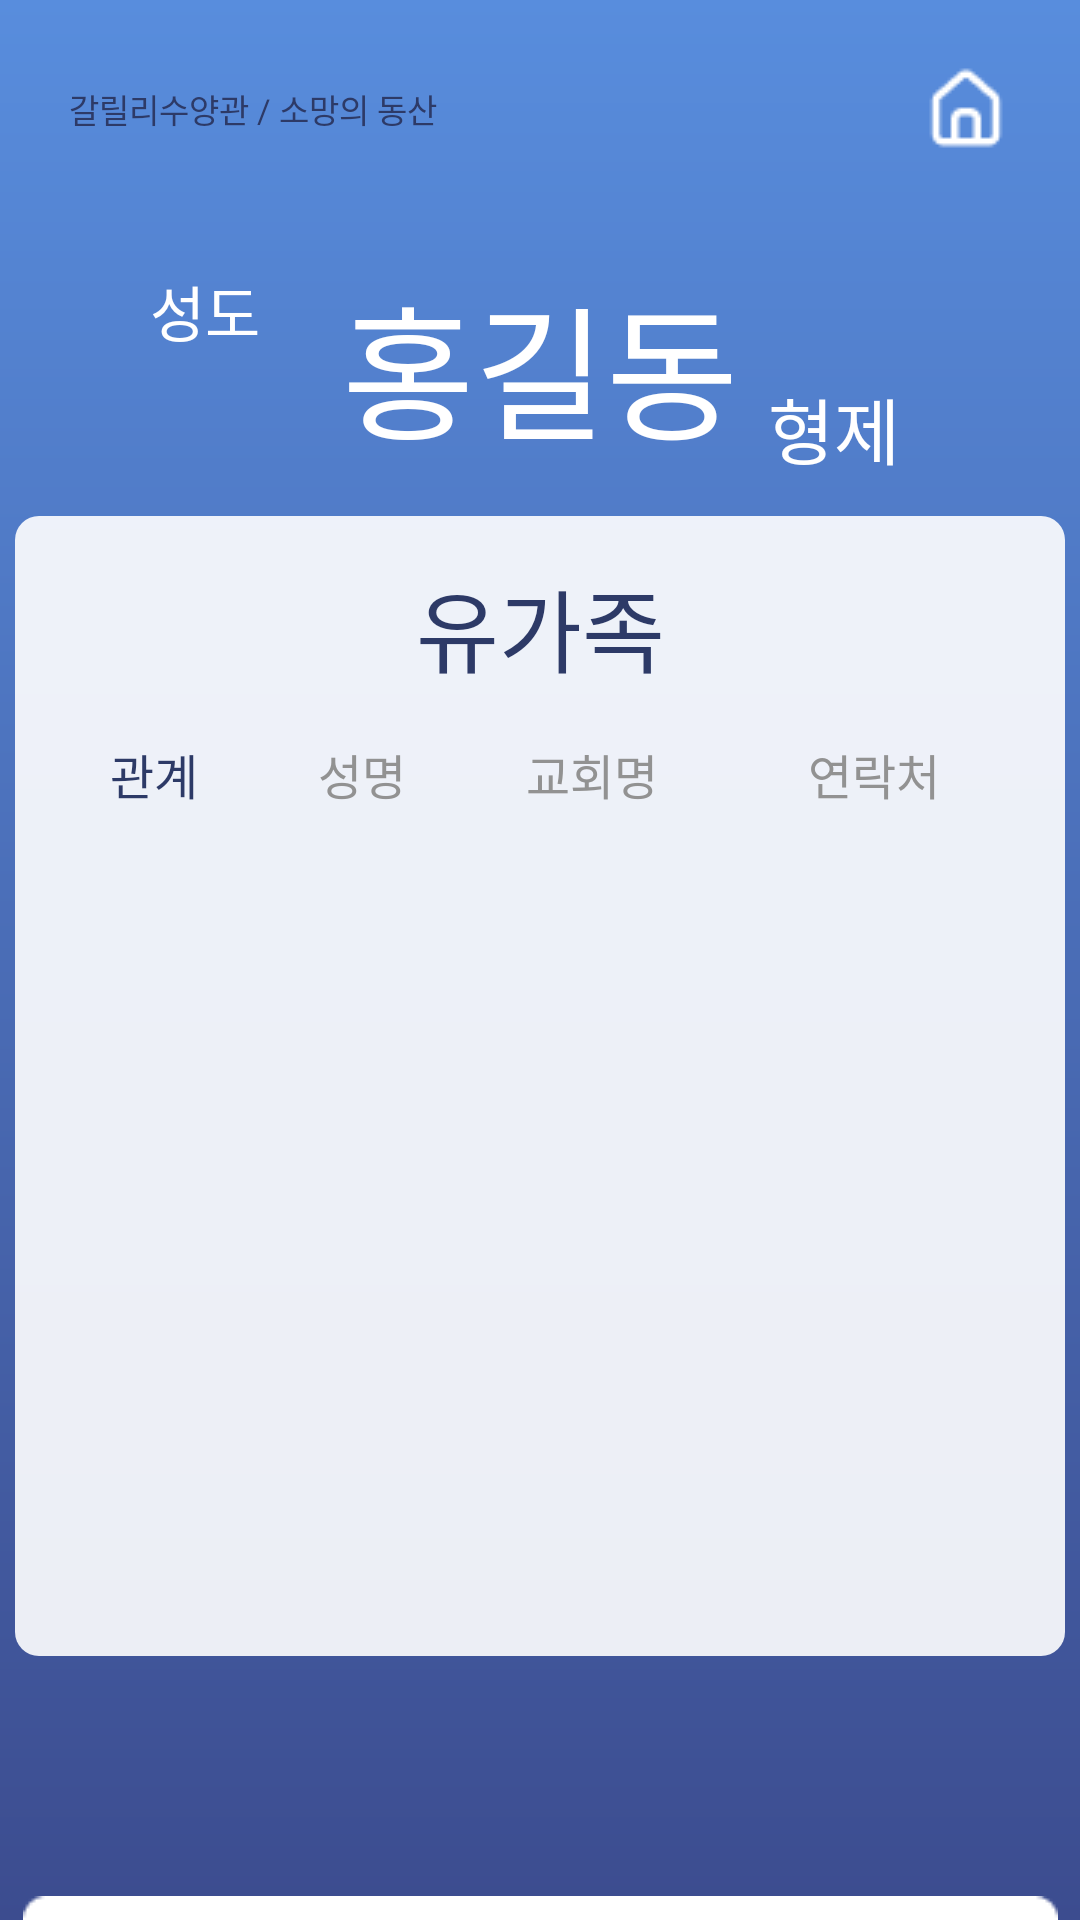

Where to tap for icons on this 1080*1920 app screen, as (x=x, y=y):
home: (x=966, y=108)
